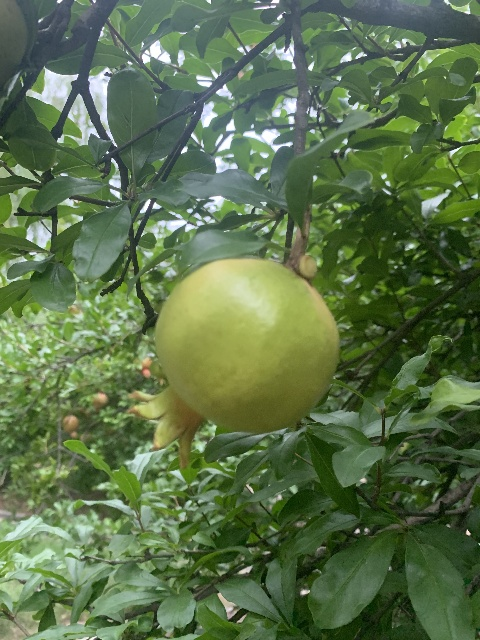mid-growth: (127, 258, 340, 469)
